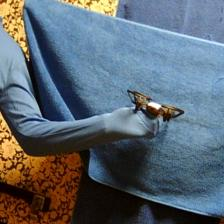drone: (126, 89, 186, 124)
